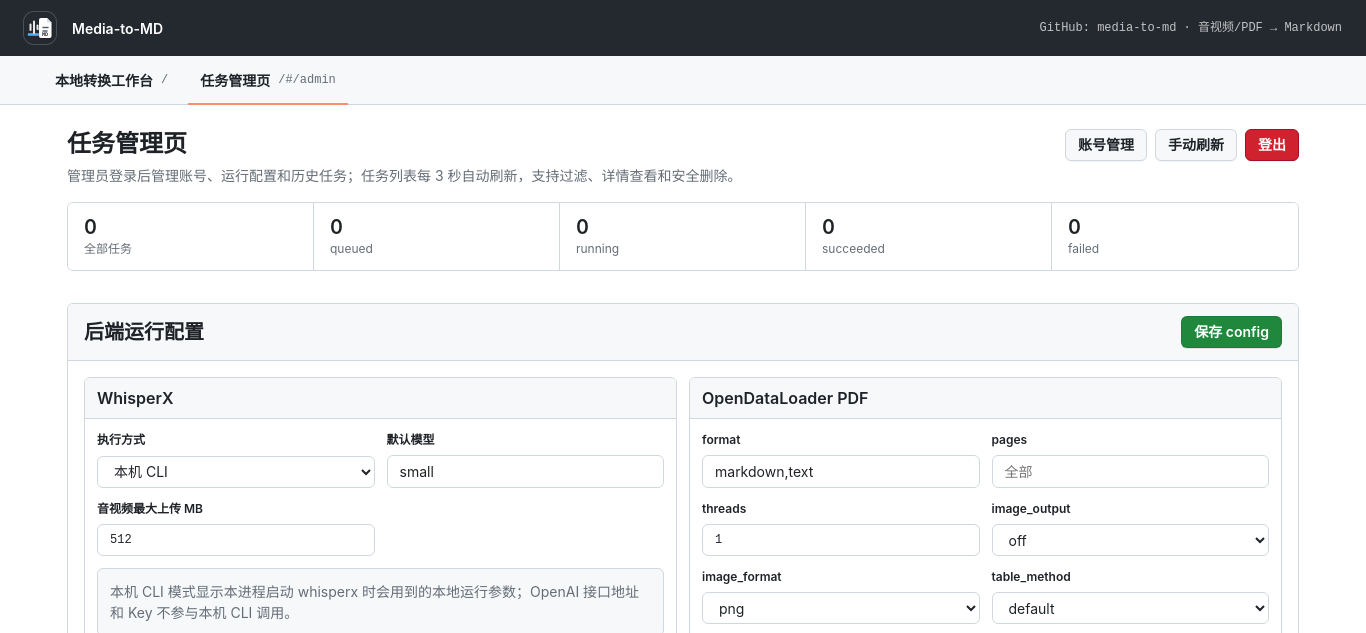
it: hash routing shell › shows a right-side save failure notice without trailing punctuation
Expected: the field labelled "默认模型" holds "small", [386,455,664,488]
Click the button "保存 config" at (1232, 332), box [1181,316,1282,348]
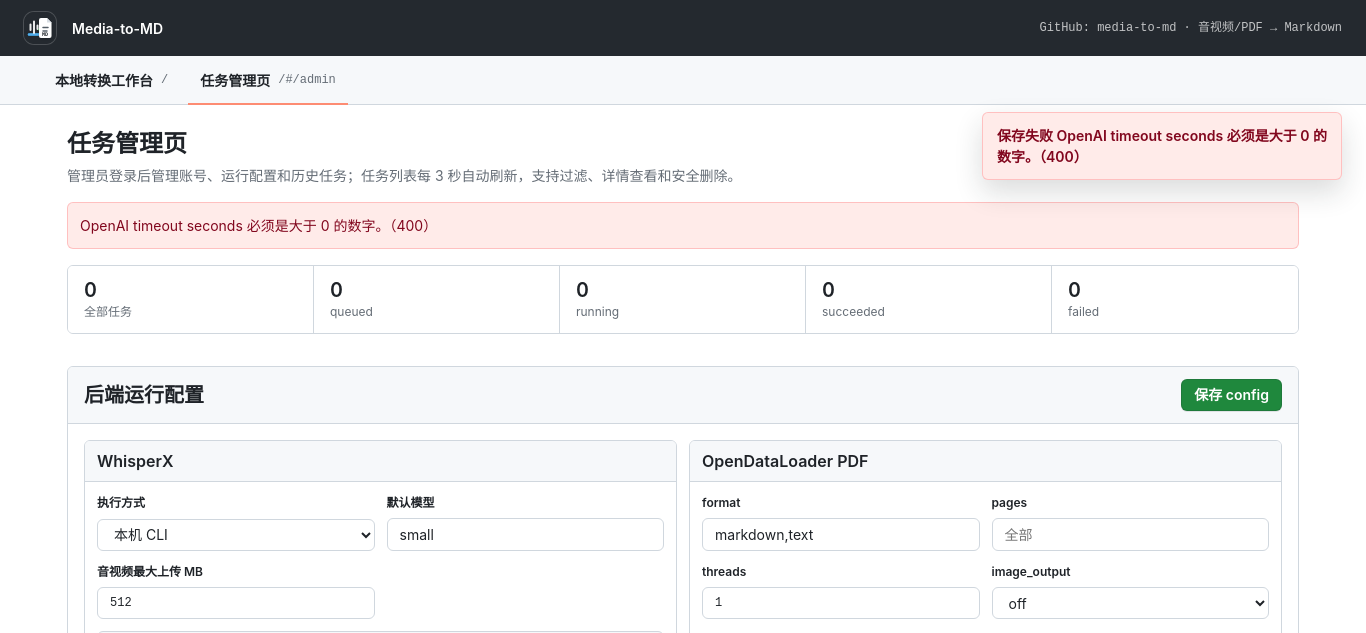
Expected: the message shows "保存失败 OpenAI timeout seconds 必须是大于 0 的数字", [997,127,1327,165]
